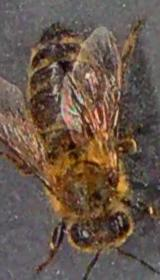varroa_mite: (76, 103, 108, 134)
